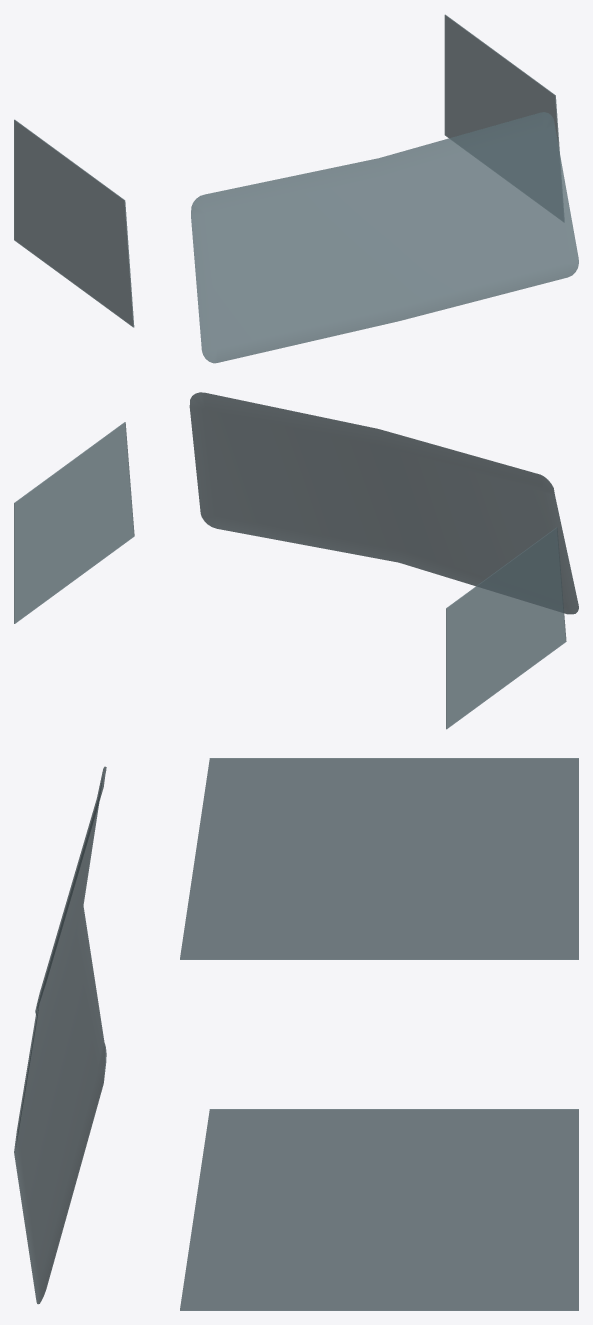
File: Truck_Glass.fbx
3 renders of one model, top to bottom at view 1: azimuth 30°, elevation 25°; view 2: azimuth 150°, elevation 25°; view 3: azimuth 270°, elevation 25°, orthographic. The views are drawn at different scales.
Parts seen in each view (by area): view 1: Truck_Glass; view 2: Truck_Glass; view 3: Truck_Glass.
Boxes of the visible parts, x1=… form: Truck_Glass: x1=14, y1=14, x2=578, y2=363; Truck_Glass: x1=14, y1=392, x2=578, y2=729; Truck_Glass: x1=14, y1=758, x2=578, y2=1310.
Bounding box in the file's own units: 170 × 57.07 × 115.
